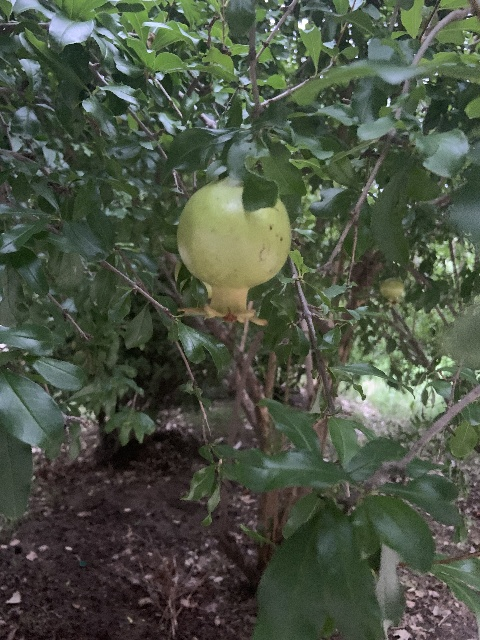mid-growth: (176, 179, 291, 327), (379, 278, 404, 306)
